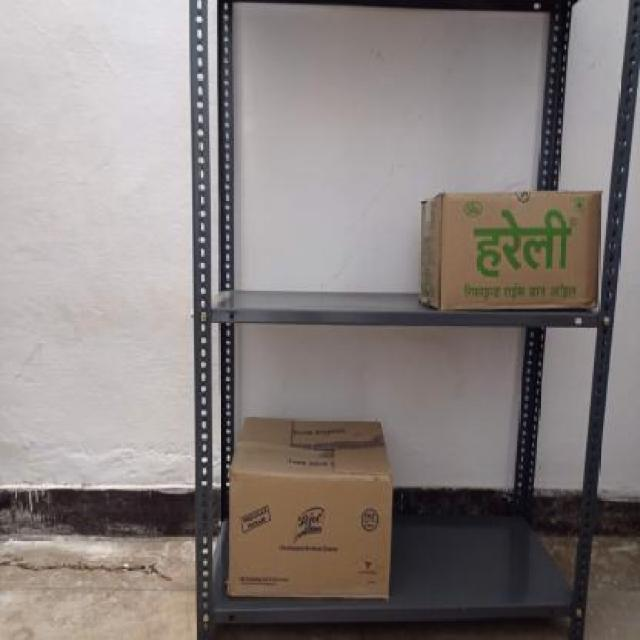box: (227, 472, 396, 596), (436, 194, 598, 310)
